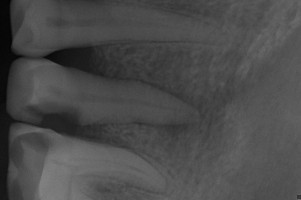Furcation Involvement: (152, 83, 210, 119), (137, 123, 192, 137)
